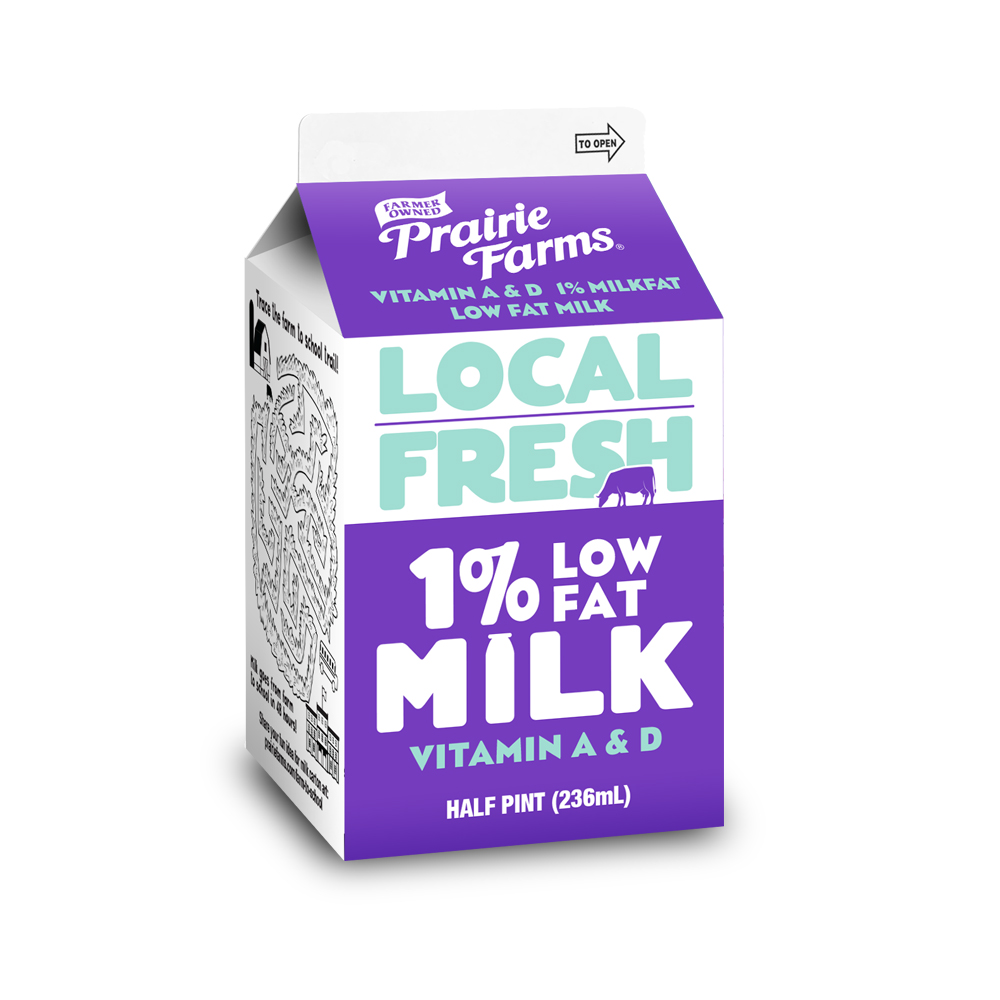Milk_Carton: (244, 105, 747, 865)
